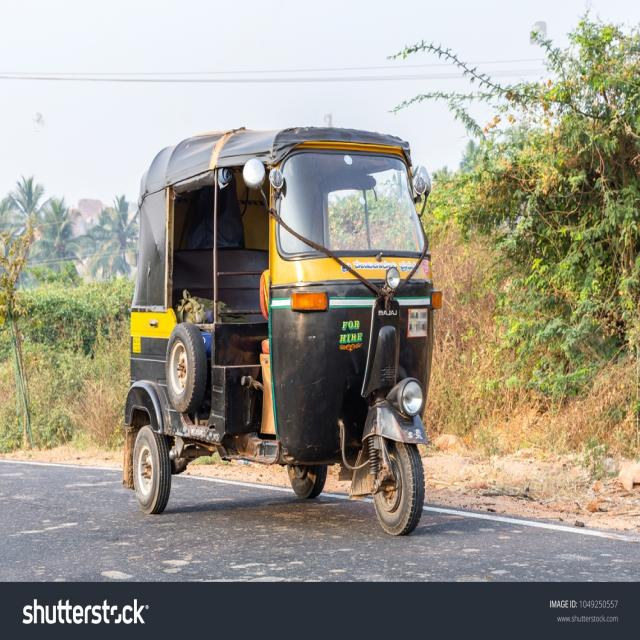autorickshaw: (122, 128, 441, 535)
